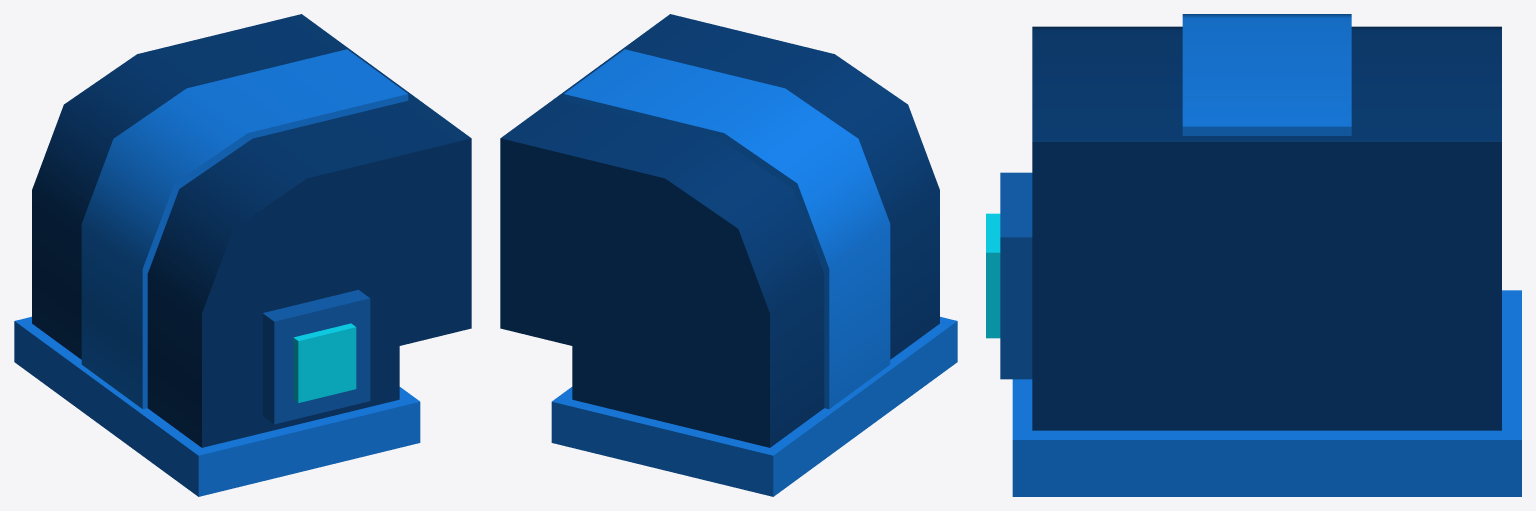
File: Shoulder 07.FBX
The picture shows the model from 3 angles, left to right: view 1: azimuth 30°, elevation 25°; view 2: azimuth 150°, elevation 25°; view 3: azimuth 270°, elevation 25°; orthographic projection. The views are drawn at different scales.
Parts seen in each view (by area): view 1: Shoulder 07; view 2: Shoulder 07; view 3: Shoulder 07.
Boxes of the visible parts, x1,y1,x2,y2 form: Shoulder 07: [14, 14, 471, 496]; Shoulder 07: [500, 14, 957, 496]; Shoulder 07: [986, 14, 1521, 496].
Size of the model in its own units: 22.33 by 22.23 by 26.75.
Materials: 1 (1 with a texture image).
